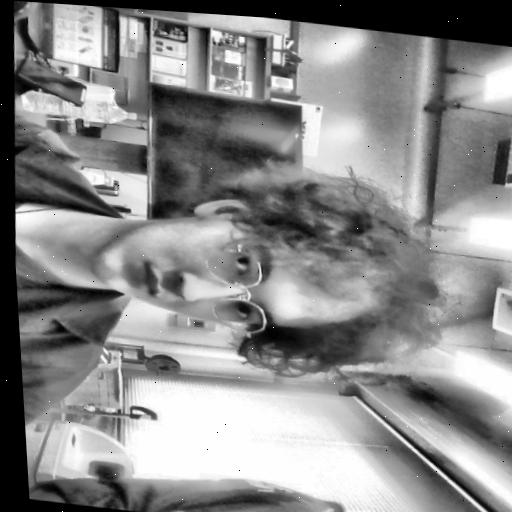Daifuku: (93, 158, 451, 375)
Not Daifuku: (322, 511, 436, 512)
